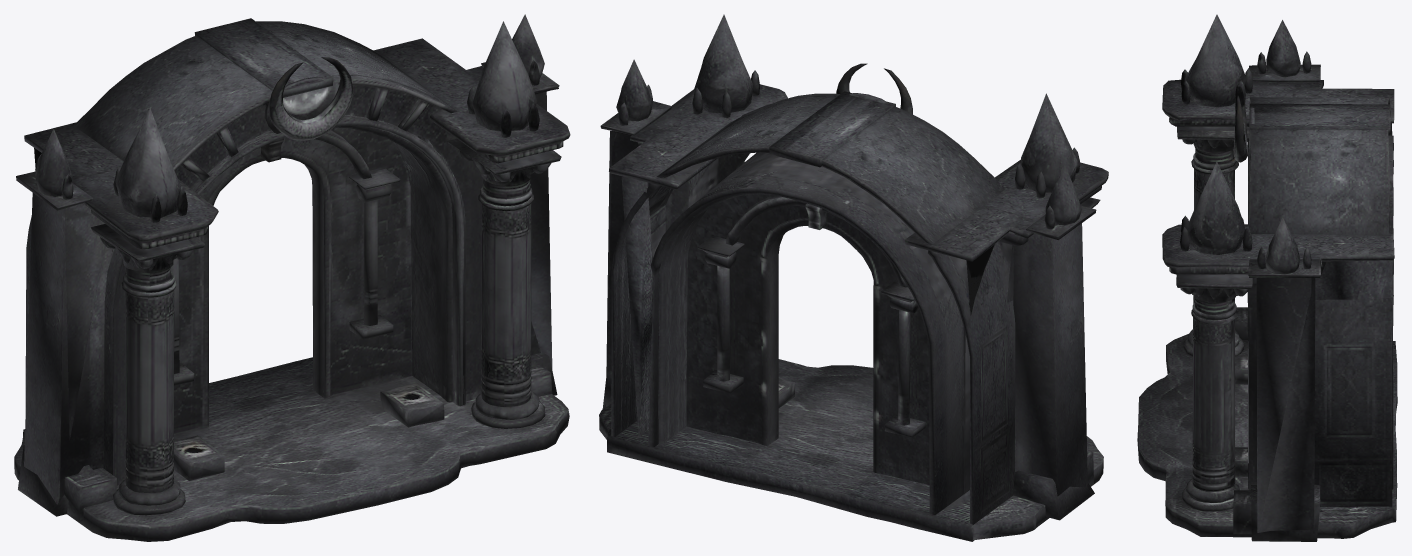
The model's file is temple-gate.glb.
The picture shows the model from 3 angles, left to right: view 1: azimuth 30°, elevation 25°; view 2: azimuth 150°, elevation 25°; view 3: azimuth 270°, elevation 25°; orthographic projection. The views are drawn at different scales.
Bounding box in the file's own units: 1 × 0.7856 × 0.5248.
Materials: 1 (1 with a texture image).
